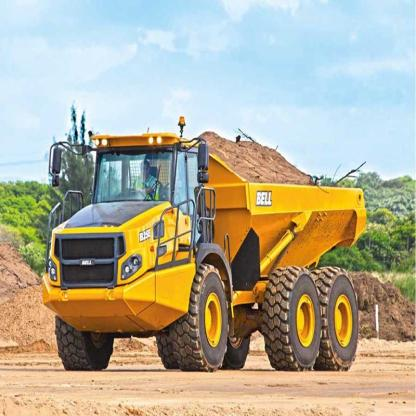dump_truck: (38, 110, 378, 375)
